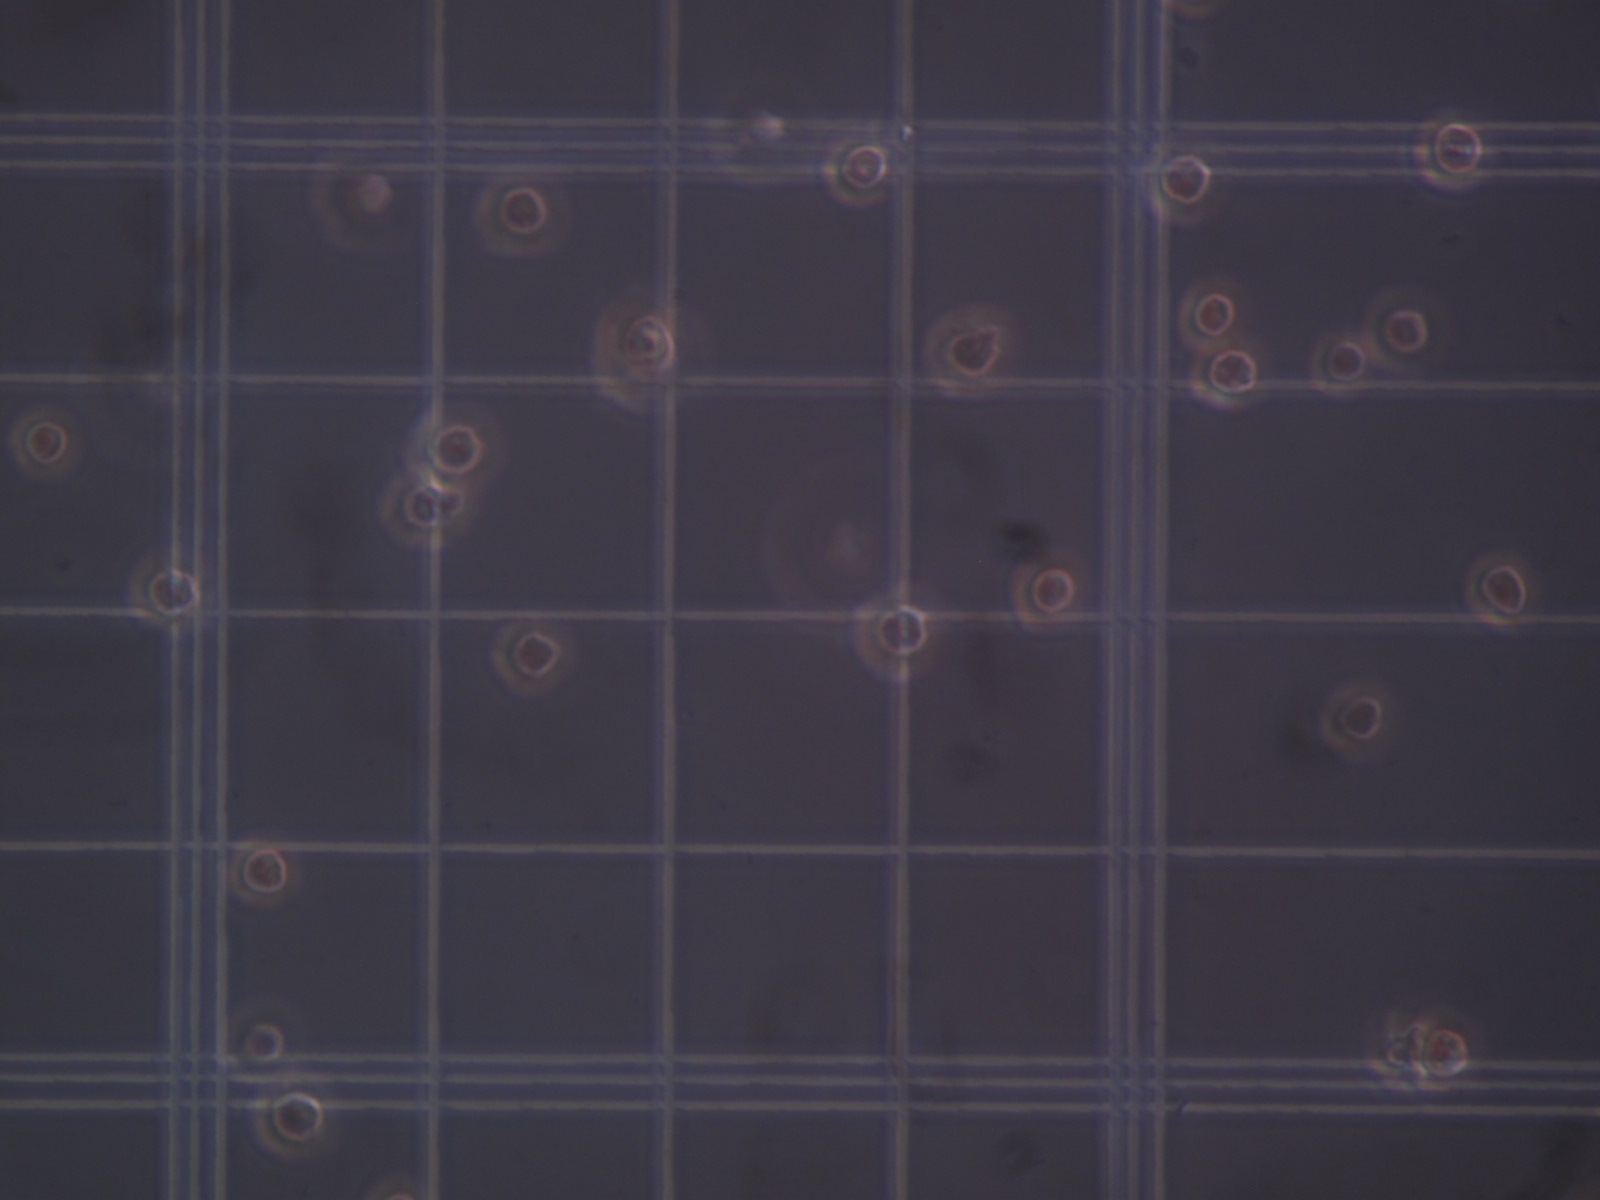hemo: (591, 287, 695, 413), (923, 304, 1018, 400), (406, 403, 505, 493), (311, 159, 399, 256), (853, 585, 940, 681), (472, 174, 566, 257), (707, 89, 786, 185), (378, 471, 475, 550), (1363, 285, 1448, 374), (1010, 550, 1089, 637), (222, 1000, 295, 1085), (127, 550, 203, 632), (1463, 550, 1540, 629), (1319, 679, 1393, 761), (491, 620, 569, 696), (252, 1084, 331, 1158), (1148, 145, 1220, 226), (1412, 115, 1485, 192), (9, 406, 79, 480), (227, 838, 300, 909), (1178, 279, 1247, 350), (1189, 343, 1264, 408), (820, 137, 889, 207), (1410, 1013, 1471, 1089), (1308, 330, 1376, 398)
